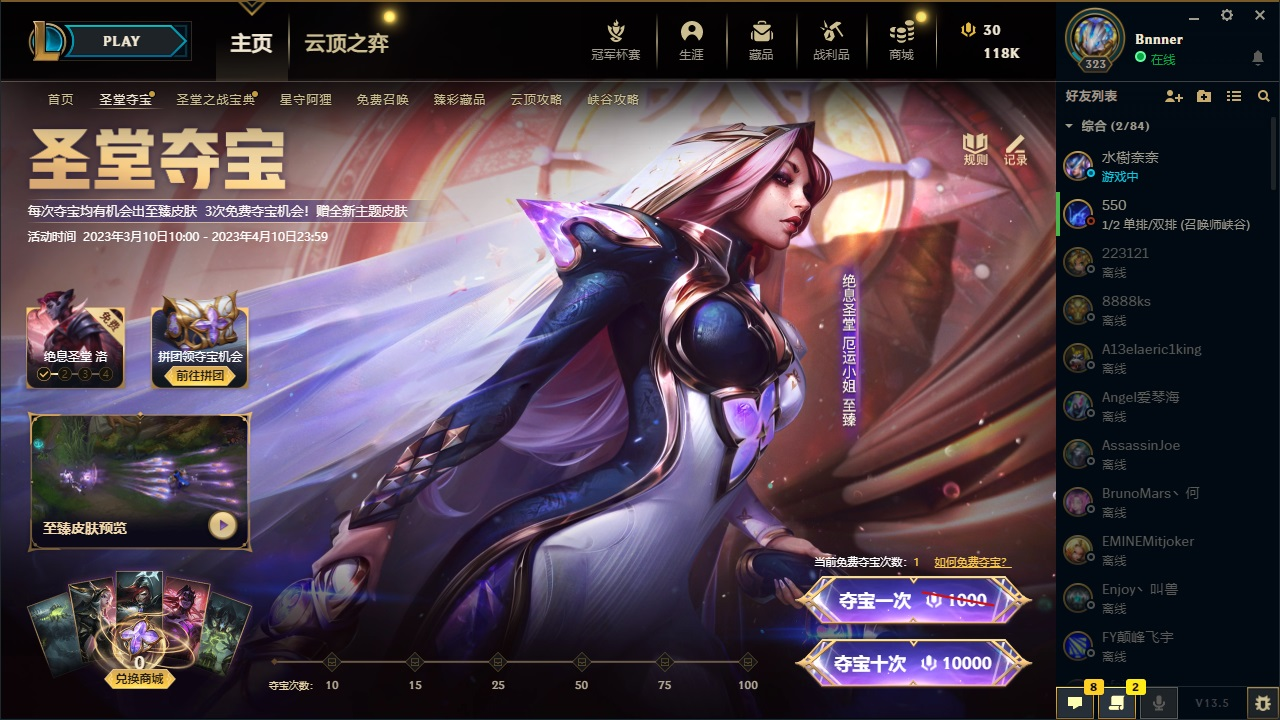PLAY: (76, 19, 189, 59)
